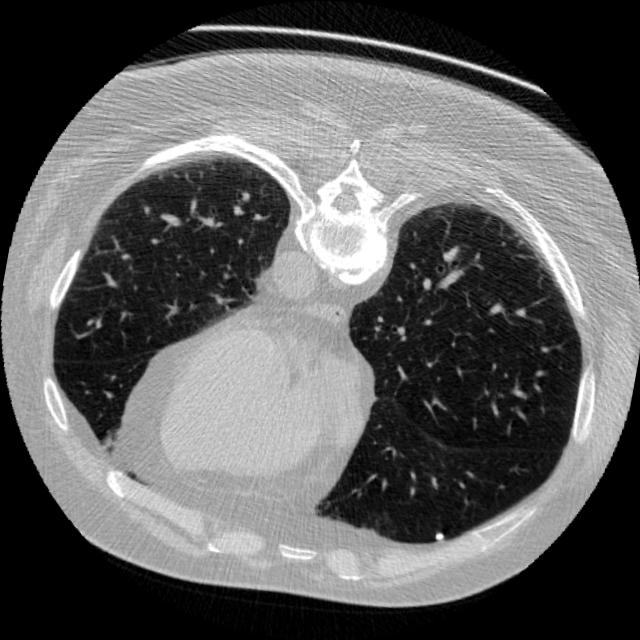nodule: (428, 525, 450, 548)
